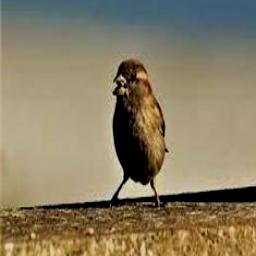Sparrow: (109, 58, 168, 206)
